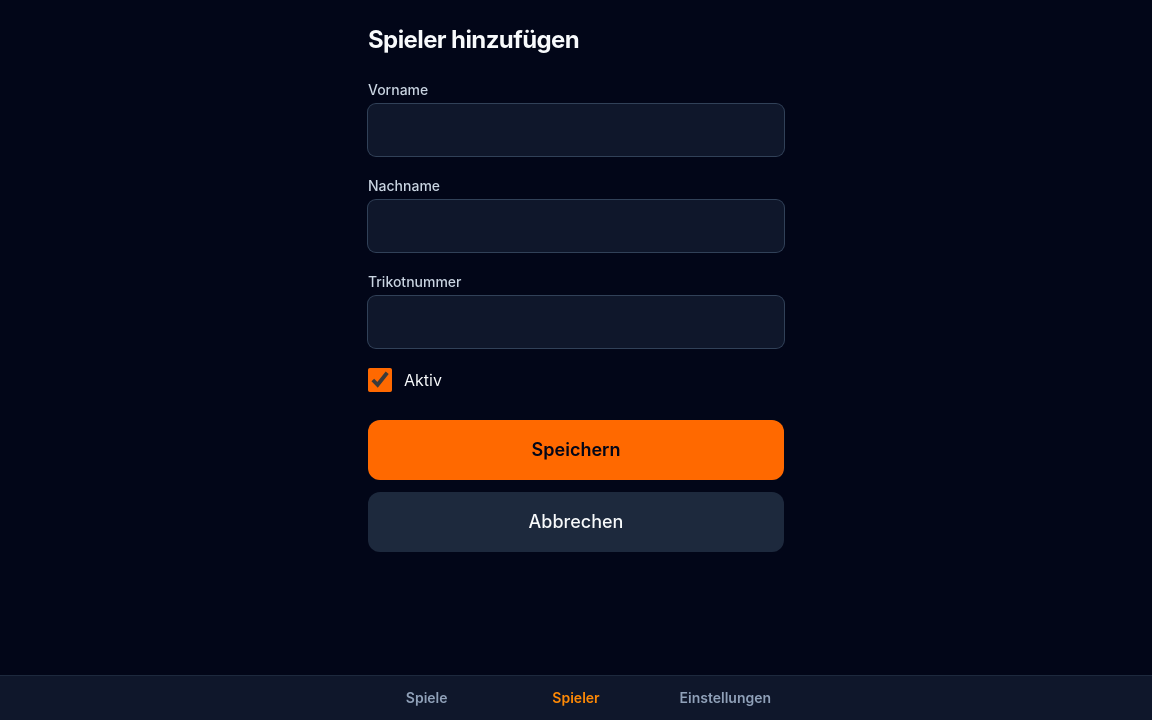
Test: PlayerFormPage – Spieler hinzufügen › zeigt Fehlermeldungen bei fehlenden Pflichtfeldern und speichert nichts
Step 1. Click the button "Speichern" → point(576, 450), box [368,420,784,480]
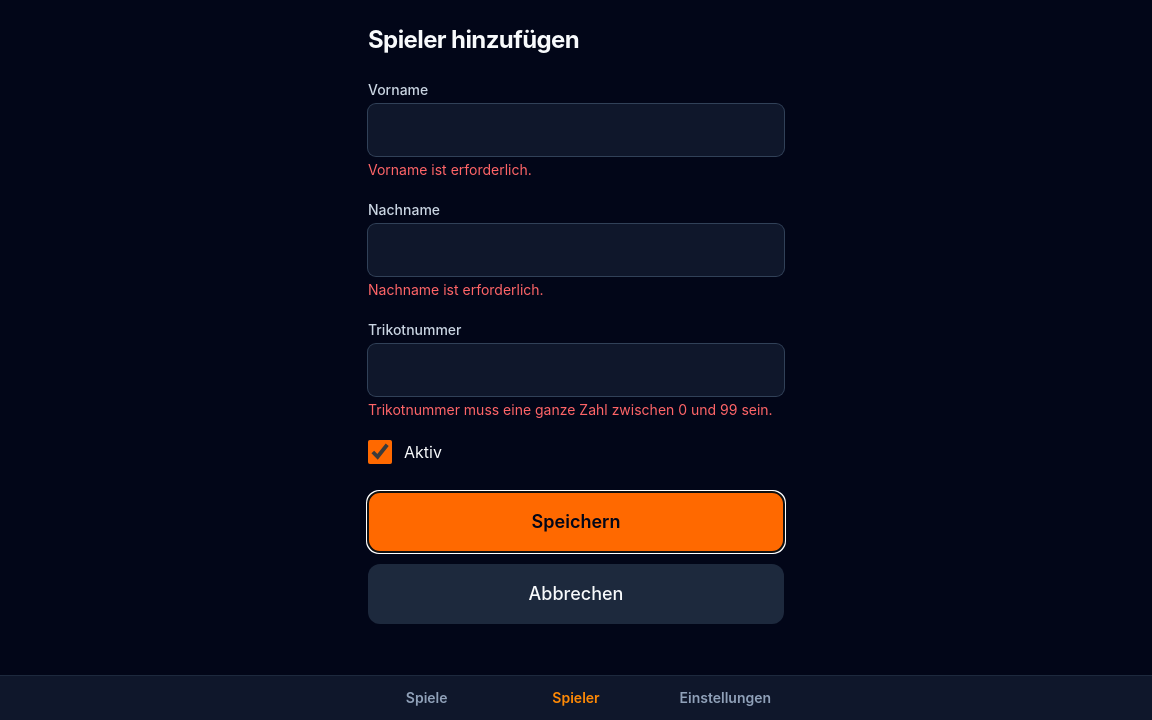
Now the text "Vorname ist erforderlich." is shown, box [368,161,532,178]
Now the text "Nachname ist erforderlich." is shown, box [368,281,544,298]
